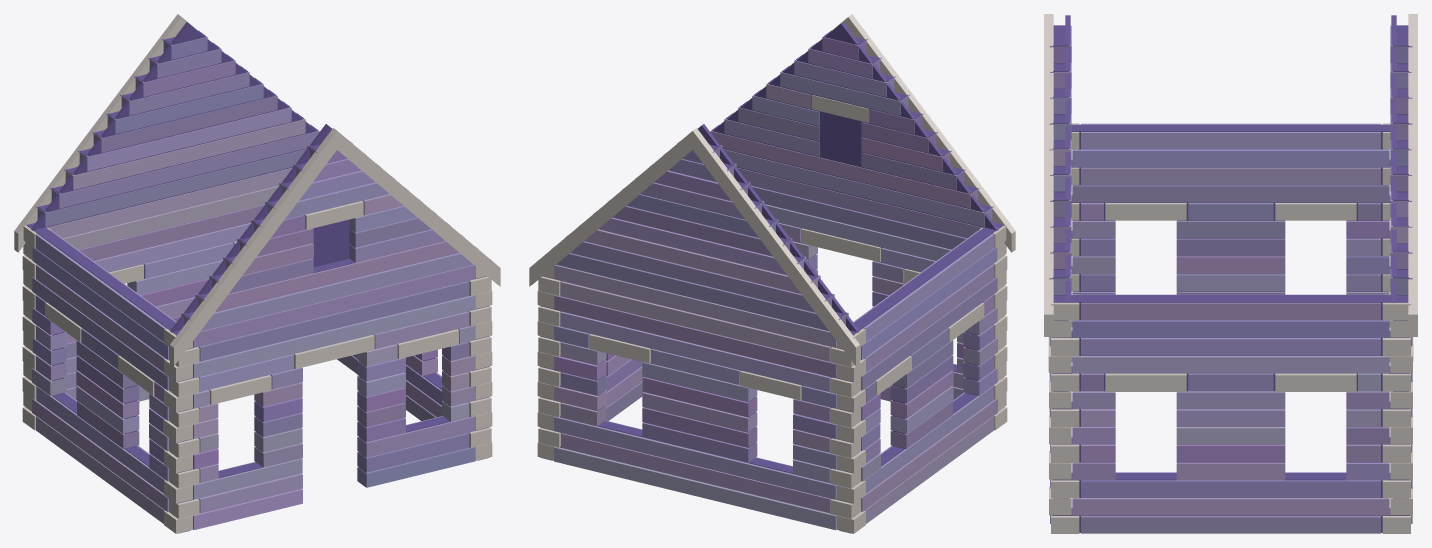
The model's file is CandyHouse_Lavender_Walls.glb.
The picture shows the model from 3 angles, left to right: view 1: azimuth 30°, elevation 25°; view 2: azimuth 150°, elevation 25°; view 3: azimuth 270°, elevation 25°; orthographic projection. The views are drawn at different scales.
Parts seen in each view (by area): view 1: CandyHouse_Lavender_Walls; view 2: CandyHouse_Lavender_Walls; view 3: CandyHouse_Lavender_Walls.
Part boxes in pixels (x1=…): CandyHouse_Lavender_Walls: x1=14, y1=14, x2=500, y2=533; CandyHouse_Lavender_Walls: x1=529, y1=14, x2=1015, y2=533; CandyHouse_Lavender_Walls: x1=1044, y1=14, x2=1417, y2=533.
Size of the model in its own units: 20.8 by 22.34 by 17.6.
